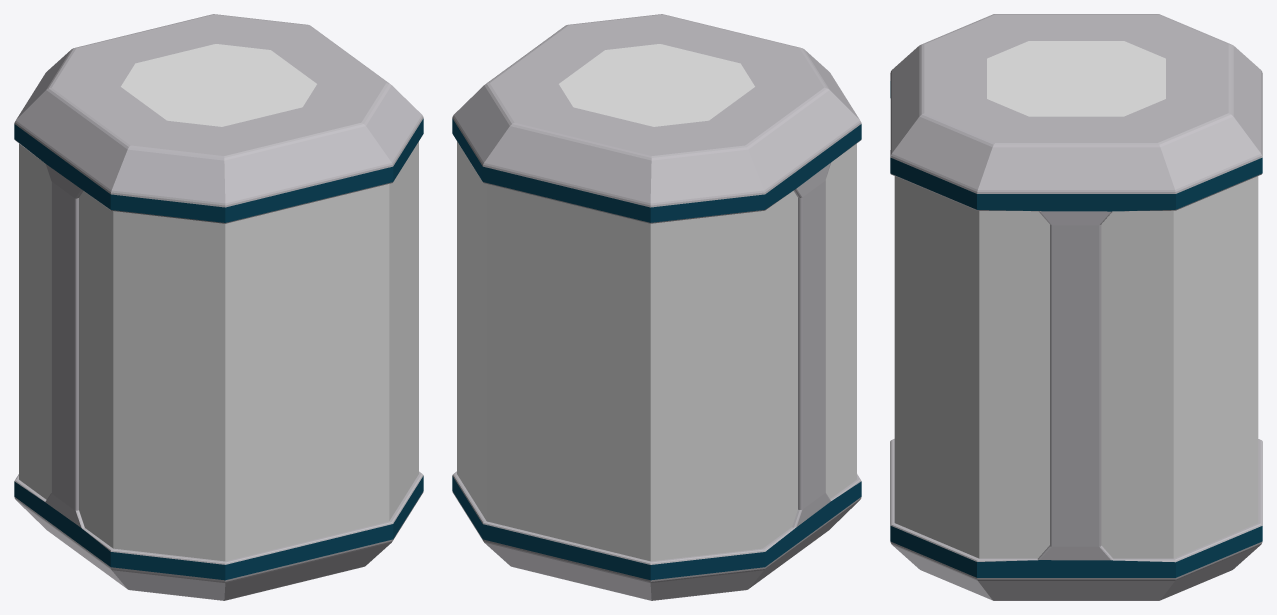
Rendered from Elevator3.fbx.
3 renders of one model, left to right at view 1: azimuth 30°, elevation 25°; view 2: azimuth 150°, elevation 25°; view 3: azimuth 270°, elevation 25°, orthographic. The views are drawn at different scales.
Visible parts, largest first — view 1: Circle; view 2: Circle; view 3: Circle.
Part boxes in pixels (x1,y1,x2,y2): Circle: (14, 14, 423, 600); Circle: (452, 14, 861, 600); Circle: (890, 14, 1262, 600).
Bounding box in the file's own units: 198 × 268 × 198.
